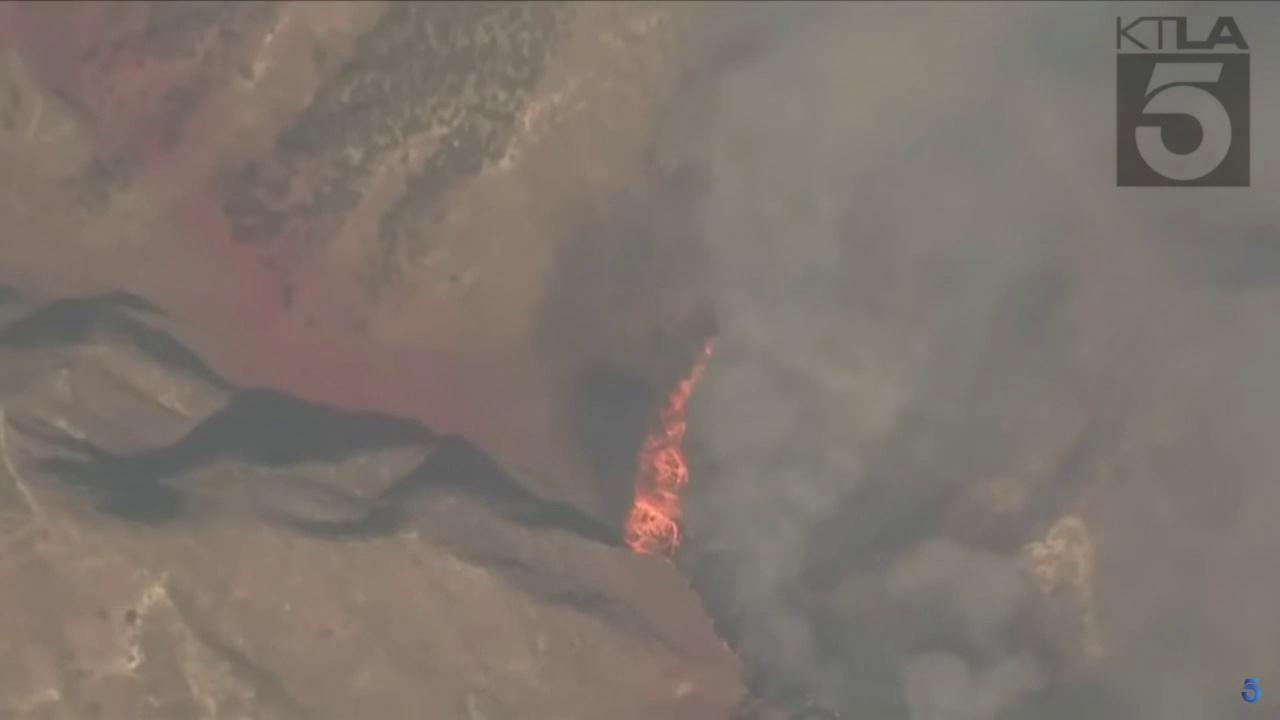fire: (620, 332, 717, 562)
smoke: (541, 0, 1280, 720)
